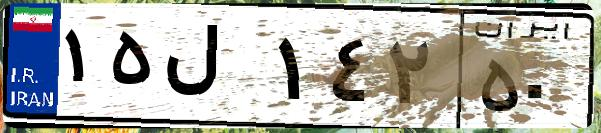0: (525, 38, 570, 115)
1: (270, 28, 330, 110), (57, 26, 110, 100)
2: (385, 28, 445, 110)
4: (330, 28, 385, 110)
5: (475, 38, 525, 113), (110, 28, 158, 98)
ل: (158, 20, 270, 120)
